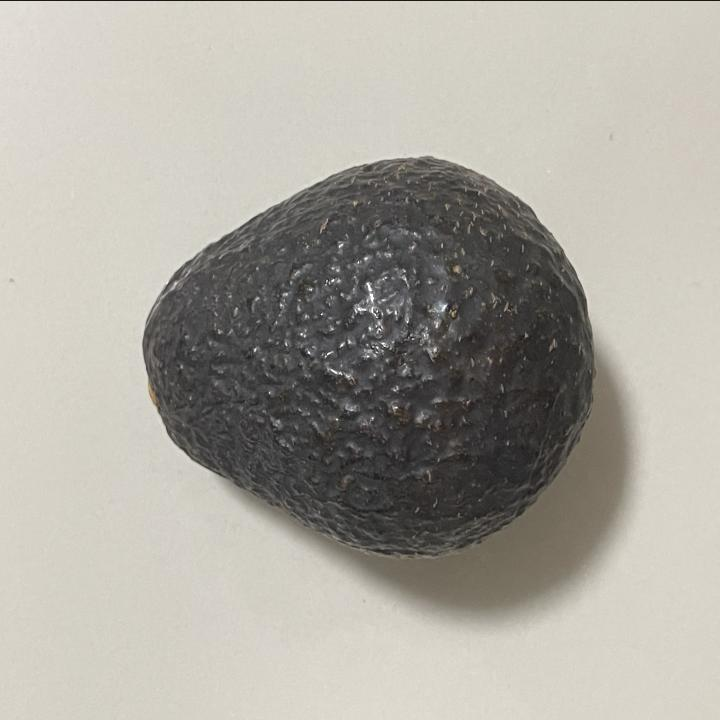Level3: (128, 144, 604, 570)
